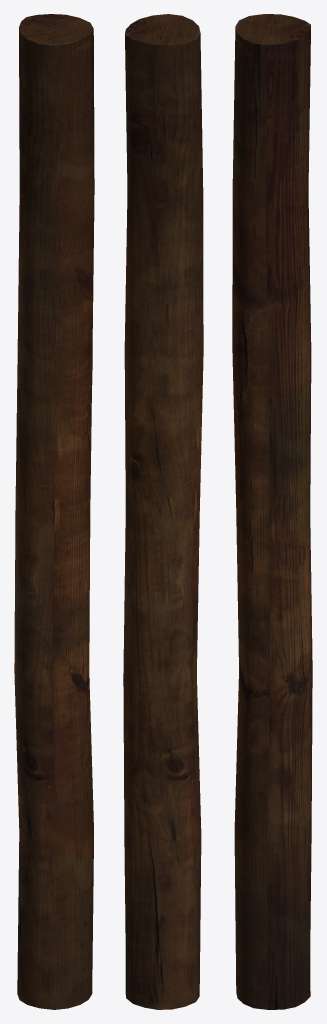
File: Pillar_Wood_Round_001.obj
The picture shows the model from 3 angles, left to right: view 1: azimuth 90°, elevation 25°; view 2: azimuth 150°, elevation 25°; view 3: azimuth 330°, elevation 25°; orthographic projection.
Visible parts, largest first — view 1: Pillar_Wood_Round_002; view 2: Pillar_Wood_Round_002; view 3: Pillar_Wood_Round_002.
Part boxes in pixels (x1=…): Pillar_Wood_Round_002: x1=14, y1=14, x2=94, y2=1009; Pillar_Wood_Round_002: x1=123, y1=14, x2=203, y2=1009; Pillar_Wood_Round_002: x1=232, y1=14, x2=312, y2=1009.
Bounding box in the file's own units: 19.26 × 256 × 19.26.
